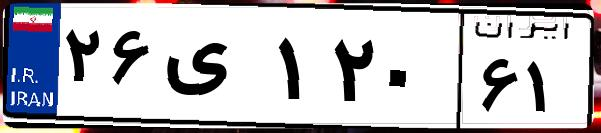0: (385, 28, 445, 110)
1: (270, 28, 330, 110), (525, 38, 570, 115)
2: (330, 28, 385, 110), (57, 26, 110, 100)
6: (475, 38, 525, 113), (110, 28, 158, 98)
ی: (158, 20, 270, 120)
